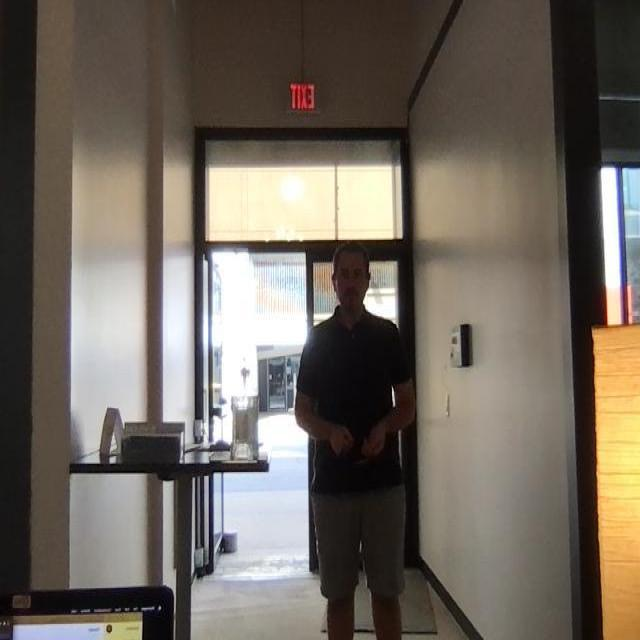face: (331, 241, 368, 316)
